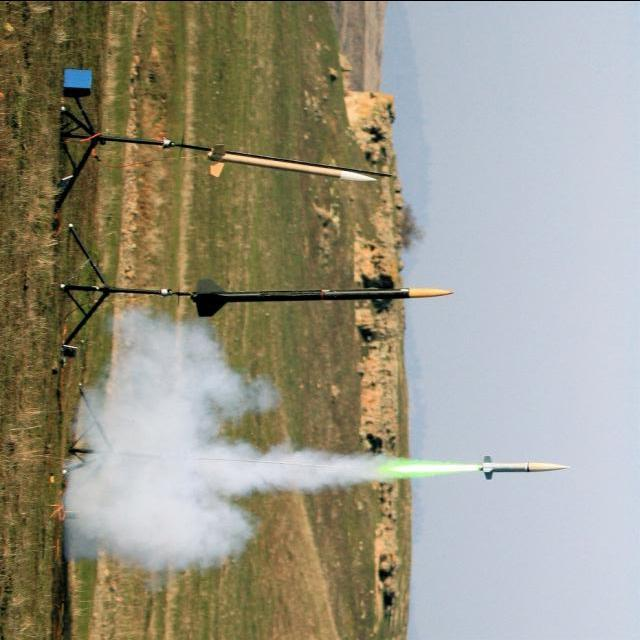missile: (190, 278, 452, 322), (206, 142, 379, 185), (479, 455, 572, 480)
